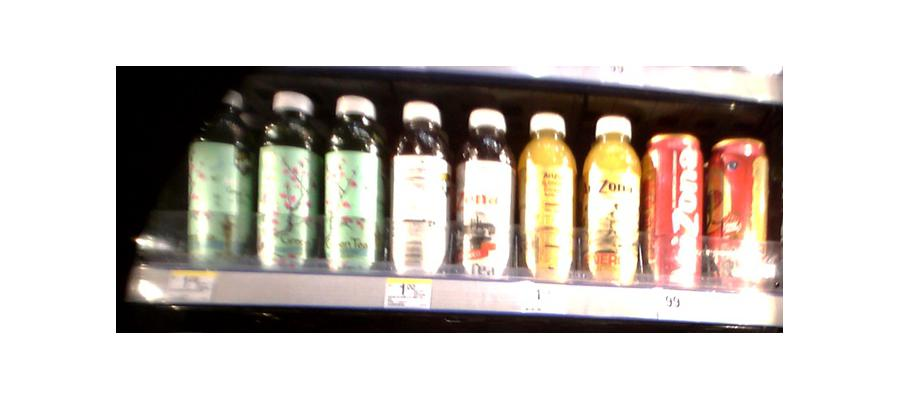bottle: (180, 87, 248, 266), (254, 90, 317, 270), (388, 99, 450, 280), (323, 92, 384, 272), (517, 110, 578, 285), (583, 115, 642, 287), (454, 111, 514, 278), (645, 135, 705, 289), (710, 137, 767, 292)
